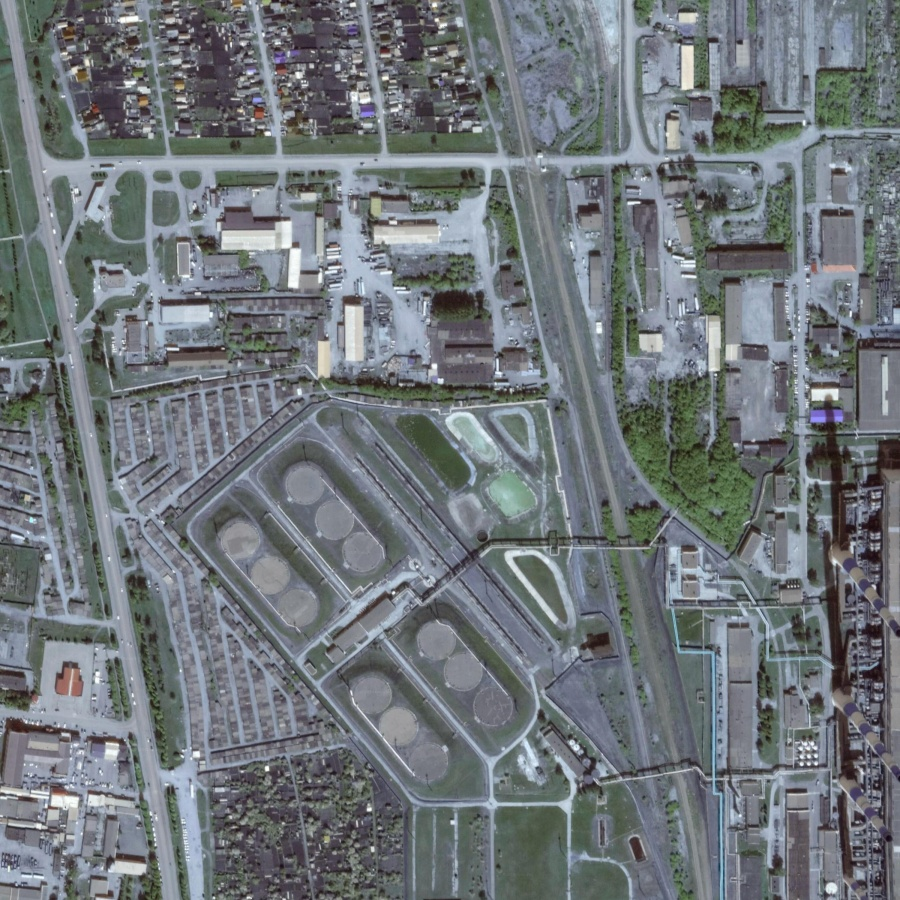PowerPlant: (202, 425, 535, 791)
